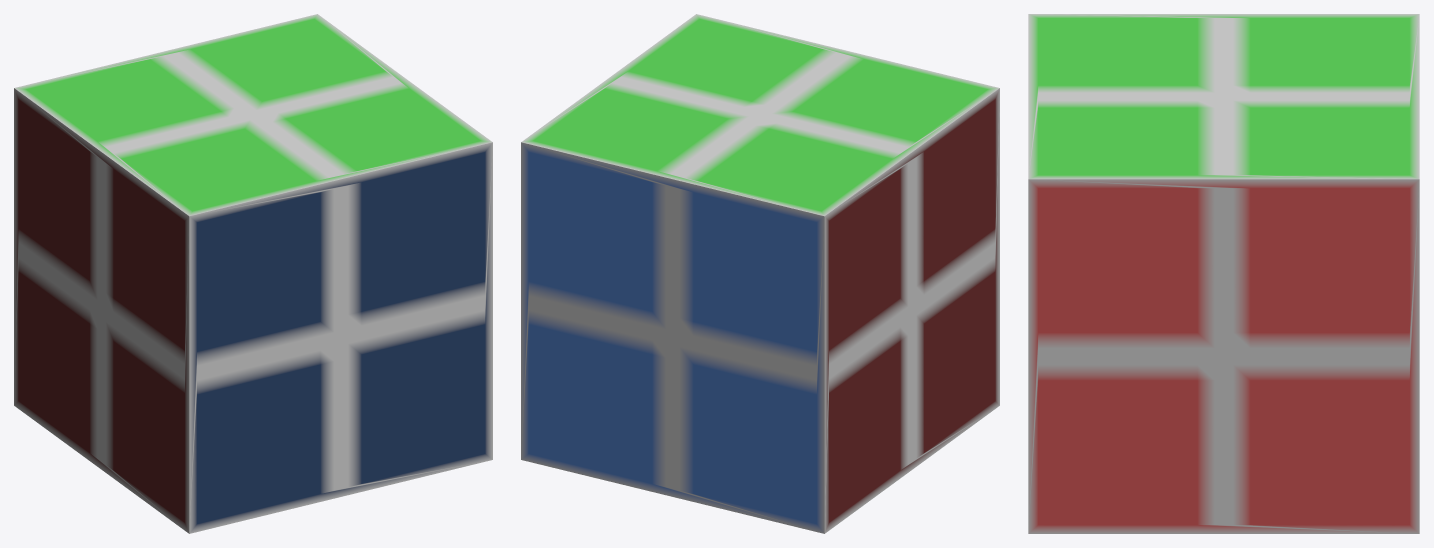
Rendered from debug_room.fbx.
3 renders of one model, left to right at view 1: azimuth 30°, elevation 25°; view 2: azimuth 150°, elevation 25°; view 3: azimuth 270°, elevation 25°, orthographic. The views are drawn at different scales.
Visible parts, largest first — view 1: Debug_Room; view 2: Debug_Room; view 3: Debug_Room.
Boxes of the visible parts, x1,y1,x2,y2 form: Debug_Room: (14,14,492,533); Debug_Room: (521,14,999,533); Debug_Room: (1028,14,1419,533).
Size of the model in its own units: 5 by 5 by 5.
